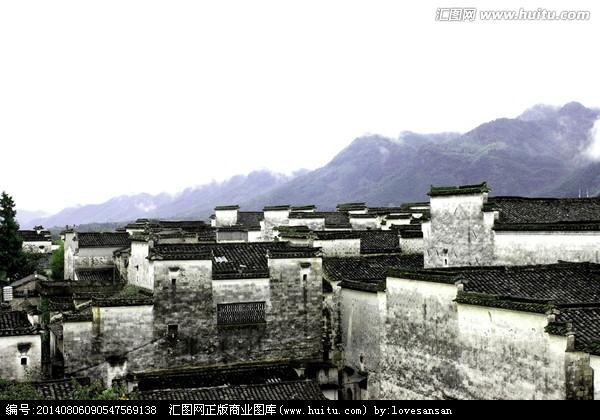mountain: (299, 107, 587, 202)
